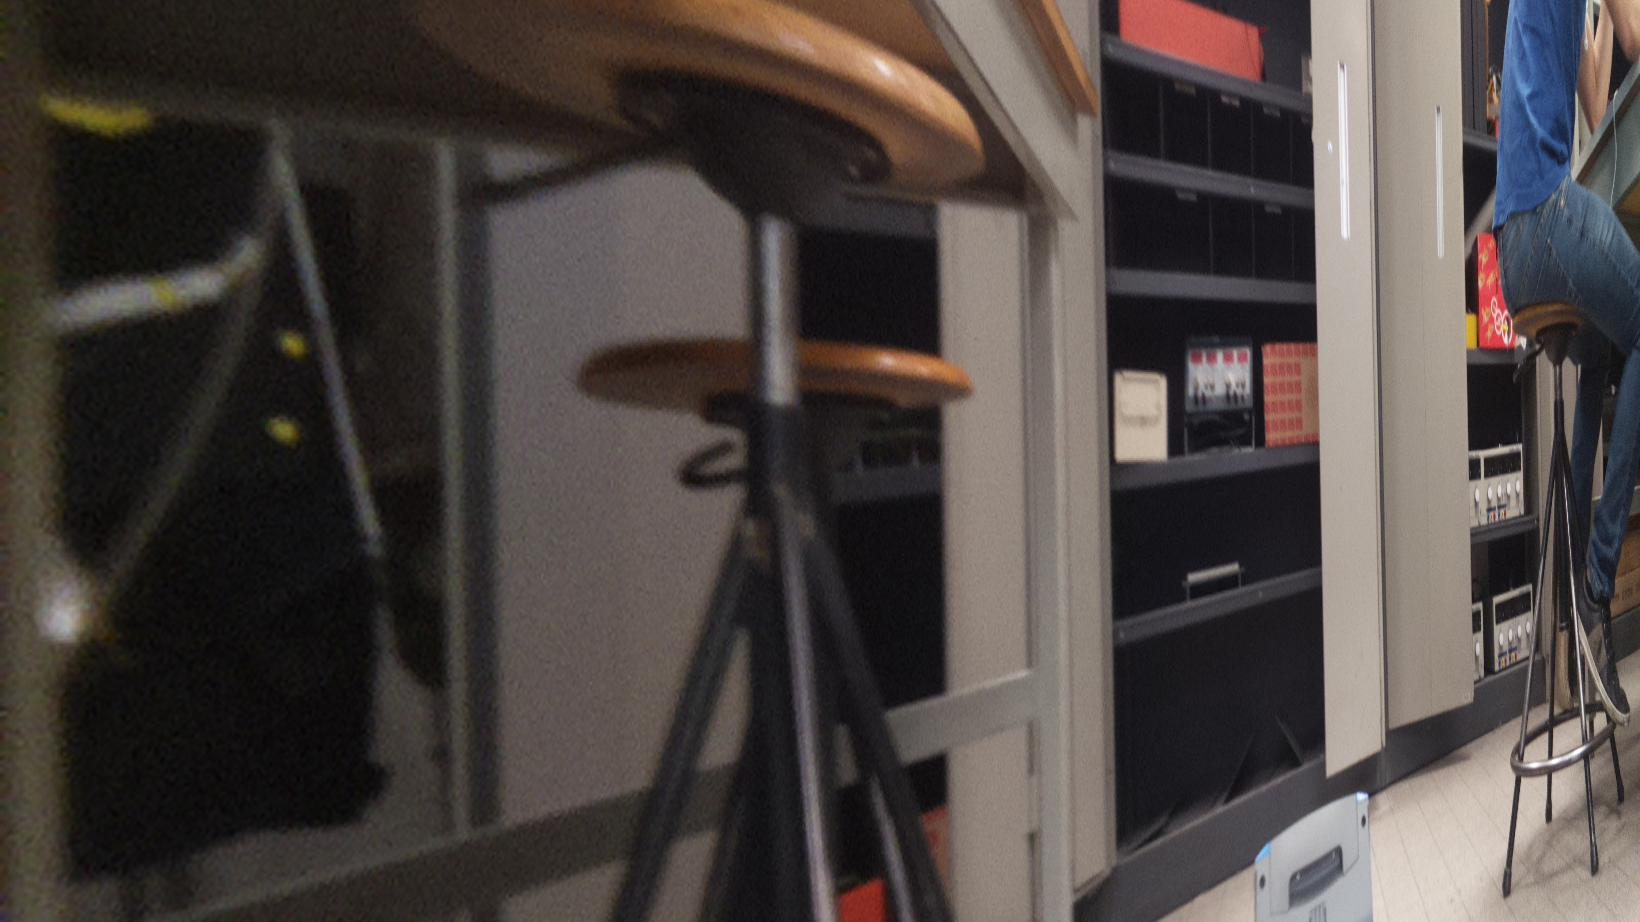medium: (1245, 793, 1372, 920)
